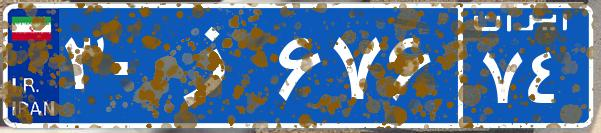0: (110, 28, 158, 105)
3: (57, 26, 110, 107)
4: (525, 38, 570, 115)
6: (385, 28, 445, 110), (273, 28, 330, 110)
7: (330, 28, 385, 110), (475, 38, 525, 113)
ز: (158, 15, 273, 115)
